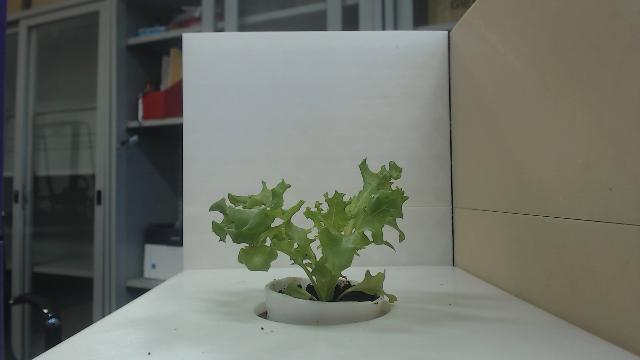Vegetative Stage: (208, 156, 410, 306)
